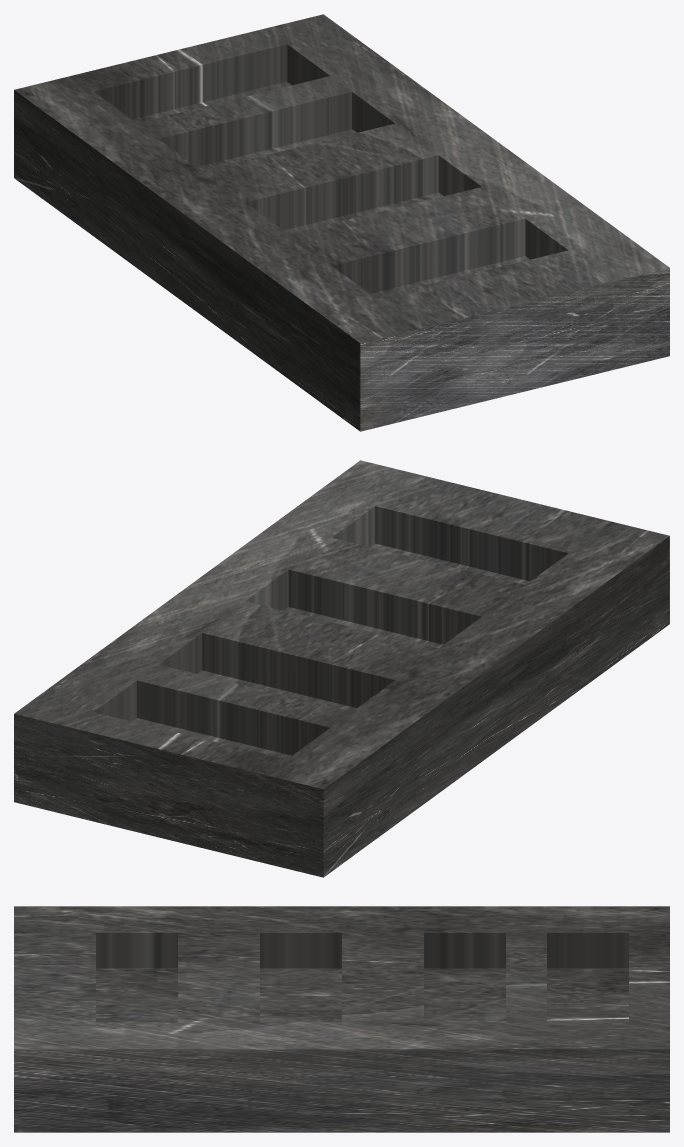
Rendered from Product.gltf.
3 views of the same model, one above another, from view 1: azimuth 30°, elevation 25°; view 2: azimuth 150°, elevation 25°; view 3: azimuth 270°, elevation 25° (orthographic). The views are drawn at different scales.
Parts seen in each view (by area): view 1: Product; view 2: Product; view 3: Product.
Boxes of the visible parts, bbox=[...] form: Product: bbox=[14, 14, 669, 431]; Product: bbox=[14, 460, 669, 877]; Product: bbox=[14, 906, 669, 1132].
Bounding box in the file's own units: 1.03 × 0.2812 × 2.
1 material, 1 textured.
